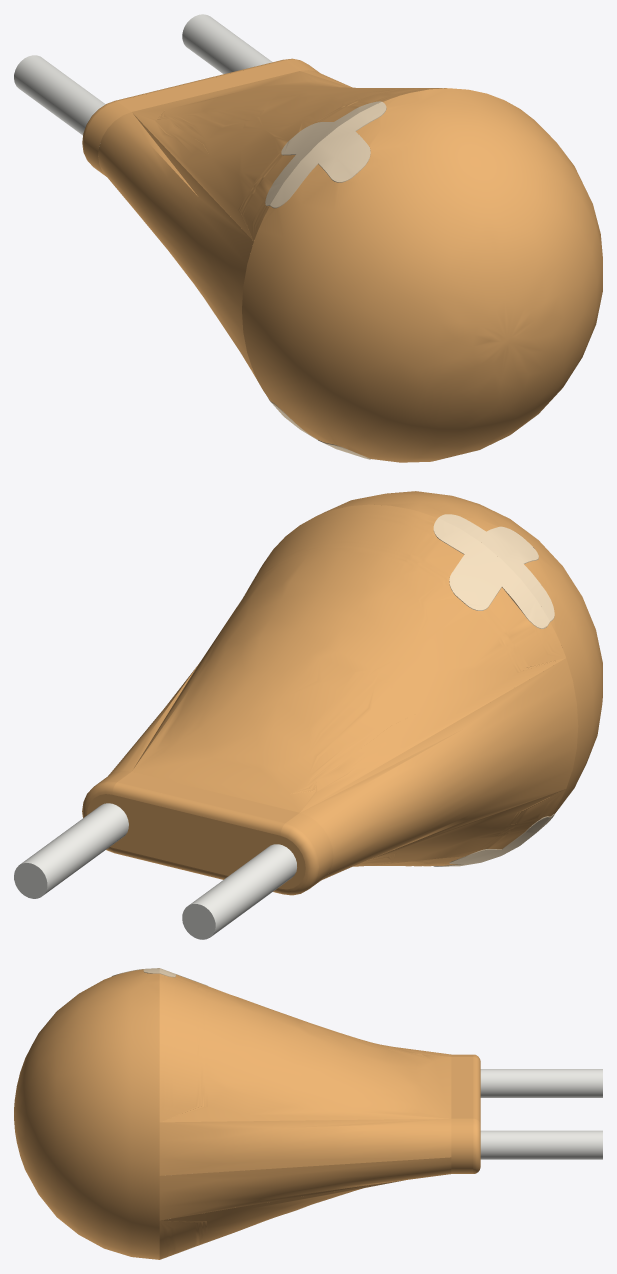
The model's file is CP_Radial_Tantal_D5.0mm_P2.50mm.glb.
3 renders of one model, top to bottom at view 1: azimuth 30°, elevation 25°; view 2: azimuth 150°, elevation 25°; view 3: azimuth 270°, elevation 25°, orthographic. The views are drawn at different scales.
Visible parts, largest first — view 1: Shape_IndexedFaceSet.022, Shape_IndexedFaceSet.023, Shape_IndexedFaceSet.038, Shape_IndexedFaceSet.001, Shape_IndexedFaceSet.060, Shape_IndexedFaceSet.059, Shape_IndexedFaceSet.039, Shape_IndexedFaceSet, Shape_IndexedFaceSet.053; view 2: Shape_IndexedFaceSet.023, Shape_IndexedFaceSet.038, Shape_IndexedFaceSet.022, Shape_IndexedFaceSet.058, Shape_IndexedFaceSet.026, Shape_IndexedFaceSet, Shape_IndexedFaceSet.059, Shape_IndexedFaceSet.060, Shape_IndexedFaceSet.001, Shape_IndexedFaceSet.039, Shape_IndexedFaceSet.054, Shape_IndexedFaceSet.024 (+6 smaller); view 3: Shape_IndexedFaceSet.022, Shape_IndexedFaceSet.023, Shape_IndexedFaceSet.024, Shape_IndexedFaceSet.025, Shape_IndexedFaceSet.026, Shape_IndexedFaceSet.059, Shape_IndexedFaceSet.060, Shape_IndexedFaceSet.039, Shape_IndexedFaceSet.040, Shape_IndexedFaceSet.054, Shape_IndexedFaceSet.055.
Part boxes in pixels (x1,y1,x2,y2): Shape_IndexedFaceSet.022: (242,88,602,462); Shape_IndexedFaceSet.023: (132,71,446,241); Shape_IndexedFaceSet.038: (98,112,253,371); Shape_IndexedFaceSet.001: (270,102,386,207); Shape_IndexedFaceSet.060: (14,55,105,135); Shape_IndexedFaceSet.059: (182,14,272,74); Shape_IndexedFaceSet.039: (117,60,299,111); Shape_IndexedFaceSet: (265,101,381,205); Shape_IndexedFaceSet.053: (83,101,130,176); Shape_IndexedFaceSet.023: (132,504,565,812); Shape_IndexedFaceSet.038: (300,658,578,880); Shape_IndexedFaceSet.022: (317,491,602,816); Shape_IndexedFaceSet.058: (87,794,305,889); Shape_IndexedFaceSet.026: (353,789,565,866); Shape_IndexedFaceSet: (433,518,549,628); Shape_IndexedFaceSet.059: (20,803,128,895); Shape_IndexedFaceSet.060: (189,844,296,936); Shape_IndexedFaceSet.001: (438,514,554,621); Shape_IndexedFaceSet.039: (117,772,299,823); Shape_IndexedFaceSet.054: (112,782,284,835); Shape_IndexedFaceSet.024: (108,601,240,775); Shape_IndexedFaceSet.022: (14,969,159,1259); Shape_IndexedFaceSet.023: (159,974,451,1122); Shape_IndexedFaceSet.024: (159,1118,451,1175); Shape_IndexedFaceSet.025: (159,1157,451,1220); Shape_IndexedFaceSet.026: (159,1180,403,1259); Shape_IndexedFaceSet.059: (480,1130,602,1159); Shape_IndexedFaceSet.060: (480,1069,602,1097); Shape_IndexedFaceSet.039: (451,1057,473,1118); Shape_IndexedFaceSet.040: (451,1118,473,1173); Shape_IndexedFaceSet.054: (473,1057,480,1123); Shape_IndexedFaceSet.055: (473,1118,480,1173).
Bounding box in the file's own units: 1.97 × 1.97 × 3.98.
